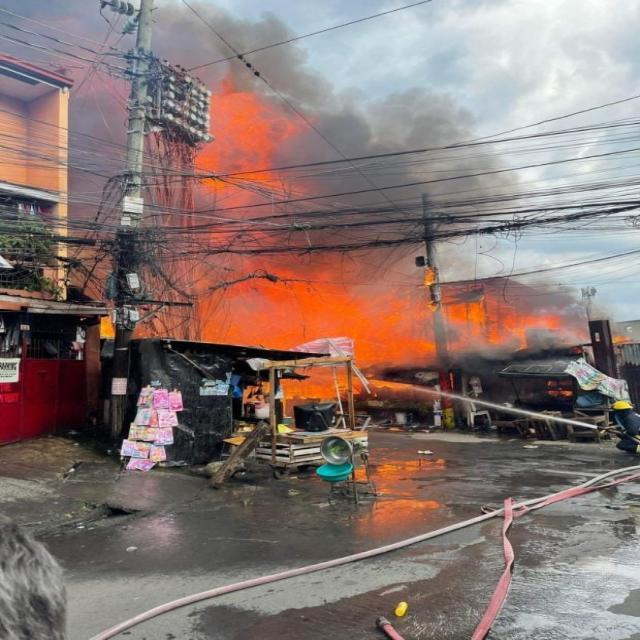Fire: (235, 290, 504, 424), (219, 85, 289, 234)
Smoke: (293, 65, 570, 279), (0, 0, 268, 72)
